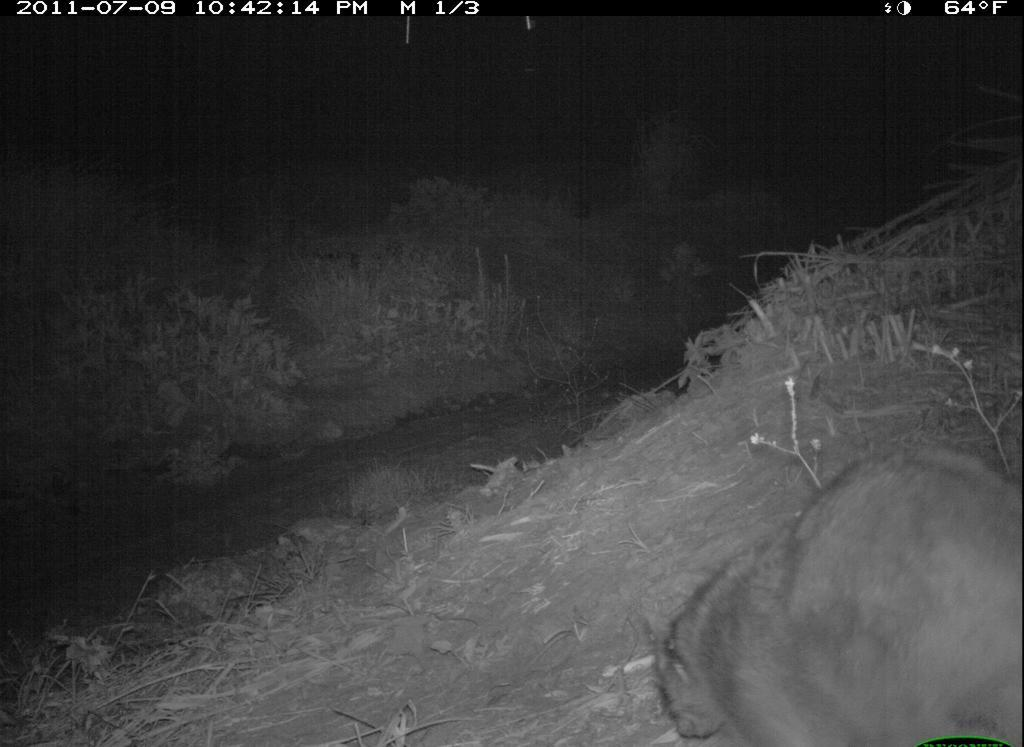raccoon: (634, 443, 1024, 747)
